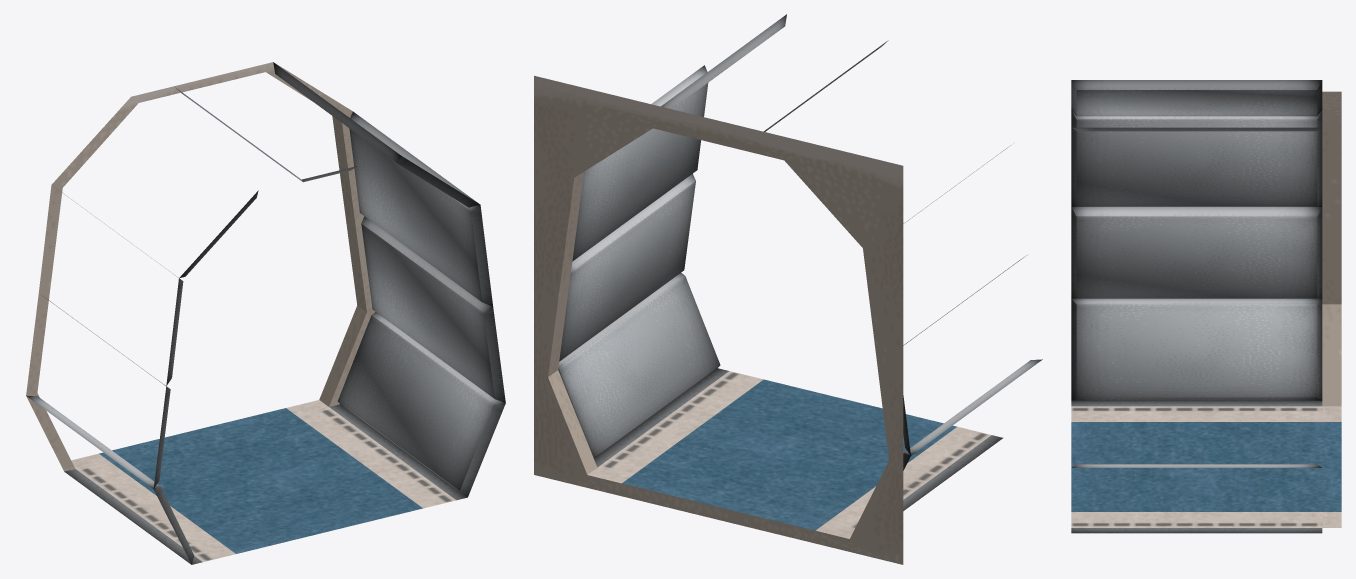
Rendered from galaxyCorridor.glb.
3 views of the same model, side by side, from view 1: azimuth 30°, elevation 25°; view 2: azimuth 150°, elevation 25°; view 3: azimuth 270°, elevation 25° (orthographic). The views are drawn at different scales.
Visible parts, largest first — view 1: Corridor; view 2: Corridor; view 3: Corridor.
Part boxes in pixels (box(x1,y1,x2,y2)): Corridor: box(26, 62, 505, 564); Corridor: box(534, 14, 1042, 564); Corridor: box(1071, 80, 1341, 533).
Size of the model in its own units: 3 by 3.1 by 2.
Materials: 1 (1 with a texture image).
